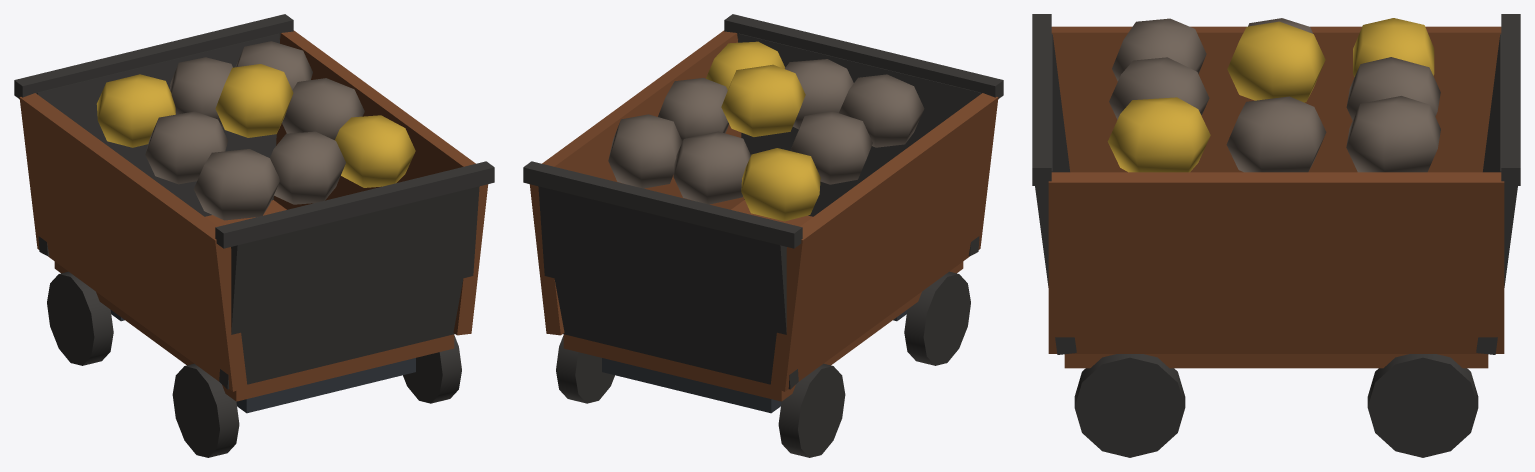
File: ore_cart.glb
3 views of the same model, side by side, from view 1: azimuth 30°, elevation 25°; view 2: azimuth 150°, elevation 25°; view 3: azimuth 270°, elevation 25° (orthographic). The views are drawn at different scales.
Parts seen in each view (by area): view 1: ore_cart; view 2: ore_cart; view 3: ore_cart.
Part boxes in pixels (box(x1,y1,x2,y2)): ore_cart: box(14, 14, 494, 457); ore_cart: box(523, 14, 1003, 457); ore_cart: box(1032, 14, 1520, 457).
Bounding box in the file's own units: 1.13 × 1.22 × 1.5.
